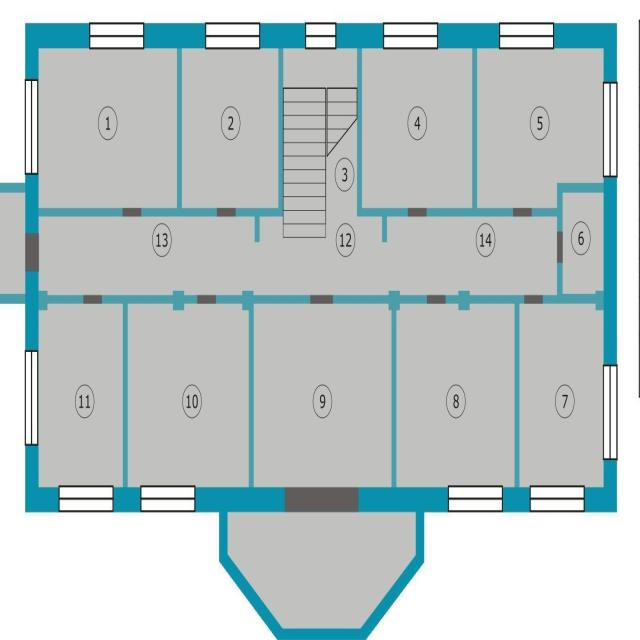Corridors: (39, 217, 557, 294), (229, 512, 416, 626), (1, 194, 25, 292)
Doors: (286, 486, 358, 512), (25, 234, 39, 271), (310, 296, 333, 305), (407, 208, 427, 218), (123, 207, 141, 218), (524, 295, 543, 305), (426, 295, 445, 305), (197, 295, 216, 305), (557, 231, 563, 262), (216, 209, 236, 218), (513, 208, 532, 217), (84, 296, 102, 305)
LBwalls: (554, 22, 618, 82), (26, 24, 89, 79), (604, 176, 617, 364), (25, 445, 59, 514), (358, 486, 448, 512), (196, 486, 285, 512), (585, 460, 618, 514), (144, 22, 206, 48), (438, 22, 500, 48), (336, 22, 384, 49), (260, 22, 306, 49), (25, 271, 39, 352), (25, 175, 39, 234), (113, 486, 141, 512), (502, 486, 530, 512), (173, 290, 185, 312), (389, 290, 401, 312), (242, 290, 254, 310), (459, 290, 470, 309), (595, 290, 604, 310), (39, 289, 47, 311)
Offices: (254, 305, 391, 487), (128, 305, 248, 487), (40, 49, 176, 206), (398, 305, 514, 486), (478, 49, 603, 207), (363, 50, 472, 206), (39, 305, 122, 486), (184, 49, 278, 208), (521, 306, 603, 486), (564, 194, 603, 292)
Stairs: (283, 51, 357, 240)
Walls: (219, 513, 426, 640), (427, 49, 513, 217), (102, 294, 173, 487), (141, 48, 217, 217), (471, 295, 525, 487), (357, 49, 407, 244), (235, 49, 283, 243), (532, 182, 604, 232), (543, 262, 596, 305), (391, 312, 397, 487), (248, 310, 254, 485), (39, 207, 123, 218), (254, 295, 311, 304), (333, 296, 388, 304), (47, 295, 83, 304), (0, 182, 25, 193), (0, 293, 24, 304), (401, 295, 426, 305), (217, 295, 242, 304), (185, 295, 197, 304), (446, 295, 458, 304)
Windows: (499, 22, 553, 49), (141, 486, 195, 513), (89, 23, 144, 49), (384, 23, 437, 49), (448, 486, 502, 511), (530, 487, 584, 512), (206, 23, 259, 48), (603, 366, 617, 459), (603, 83, 617, 176), (59, 487, 113, 511), (25, 350, 38, 445), (25, 81, 37, 173), (306, 23, 336, 48)
